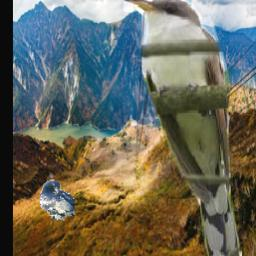Crow: (39, 180, 74, 221)
Cuckoo: (123, 0, 241, 256)
